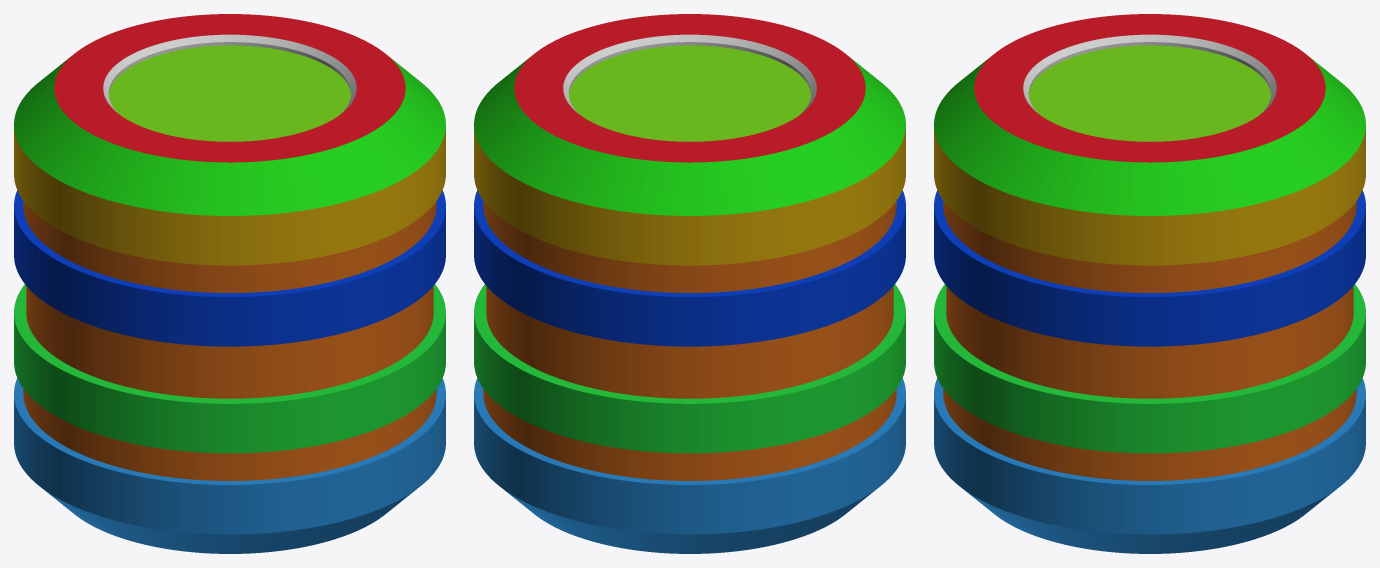
Rendered from Baril.dae.
3 renders of one model, left to right at view 1: azimuth 30°, elevation 25°; view 2: azimuth 150°, elevation 25°; view 3: azimuth 270°, elevation 25°, orthographic.
Visible parts, largest first — view 1: Cylinder.004 (×9); view 2: Cylinder.004 (×9); view 3: Cylinder.004 (×9).
Boxes of the visible parts, bbox=[...] form: Cylinder.004 (×9): bbox=[14, 14, 445, 553]; Cylinder.004 (×9): bbox=[474, 14, 905, 553]; Cylinder.004 (×9): bbox=[934, 14, 1365, 553].
Size of the model in its own units: 1.51 by 1.51 by 1.51.
